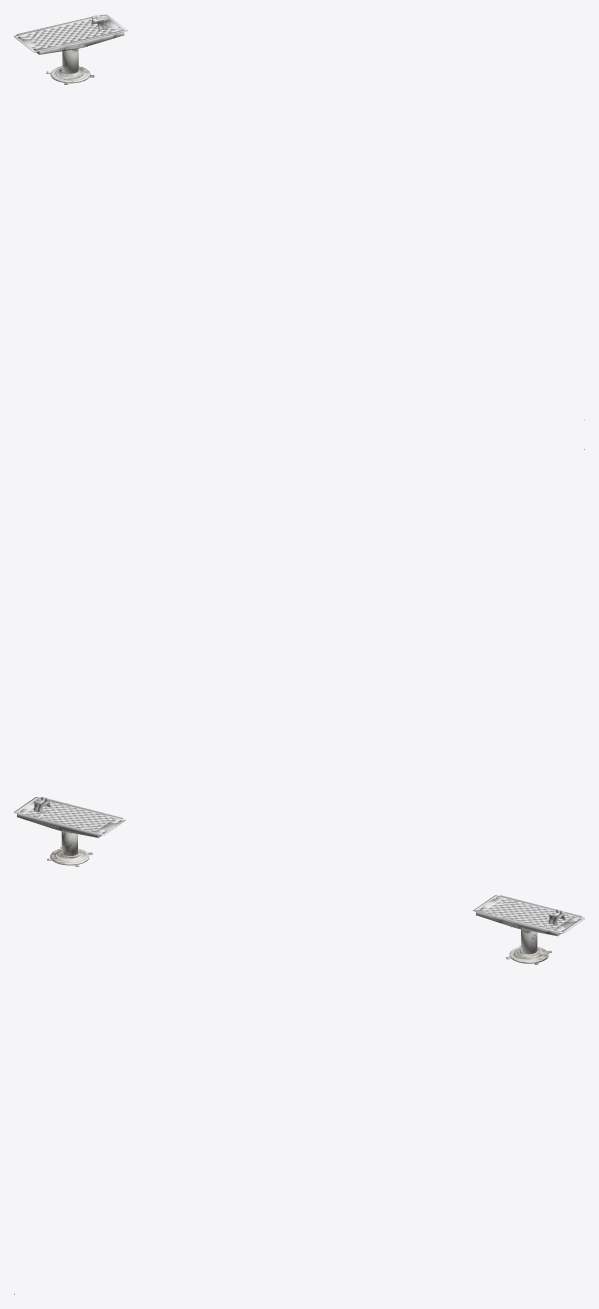
File: stol_kostnica.glb
The picture shows the model from 3 angles, top to bottom: view 1: azimuth 30°, elevation 25°; view 2: azimuth 150°, elevation 25°; view 3: azimuth 330°, elevation 25°; orthographic projection.
Parts seen in each view (by area): view 1: Plane.075; view 2: Plane.075; view 3: Plane.075.
Part boxes in pixels (bbox=[...]): Plane.075: bbox=[14, 14, 584, 420]; Plane.075: bbox=[14, 449, 584, 866]; Plane.075: bbox=[14, 895, 584, 1294].
Size of the model in its own units: 11.54 by 5.89 by 113.
1 material, 1 textured.
